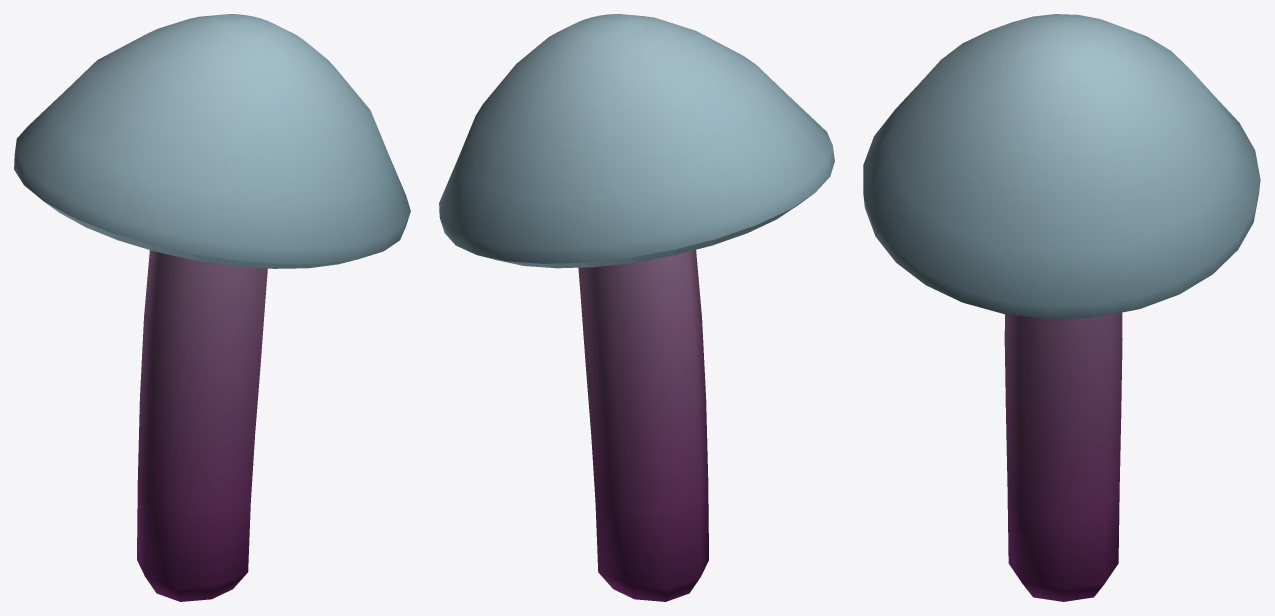
The model's file is TallMushroom2.FBX.
The picture shows the model from 3 angles, left to right: view 1: azimuth 30°, elevation 25°; view 2: azimuth 150°, elevation 25°; view 3: azimuth 270°, elevation 25°; orthographic projection. The views are drawn at different scales.
Parts seen in each view (by area): view 1: Tall Mushroom 2; view 2: Tall Mushroom 2; view 3: Tall Mushroom 2.
Boxes of the visible parts, bbox=[...] form: Tall Mushroom 2: bbox=[14, 14, 410, 601]; Tall Mushroom 2: bbox=[439, 14, 834, 601]; Tall Mushroom 2: bbox=[863, 14, 1260, 601].
Bounding box in the file's own units: 18.33 × 27.91 × 17.63.
1 material, 1 textured.
